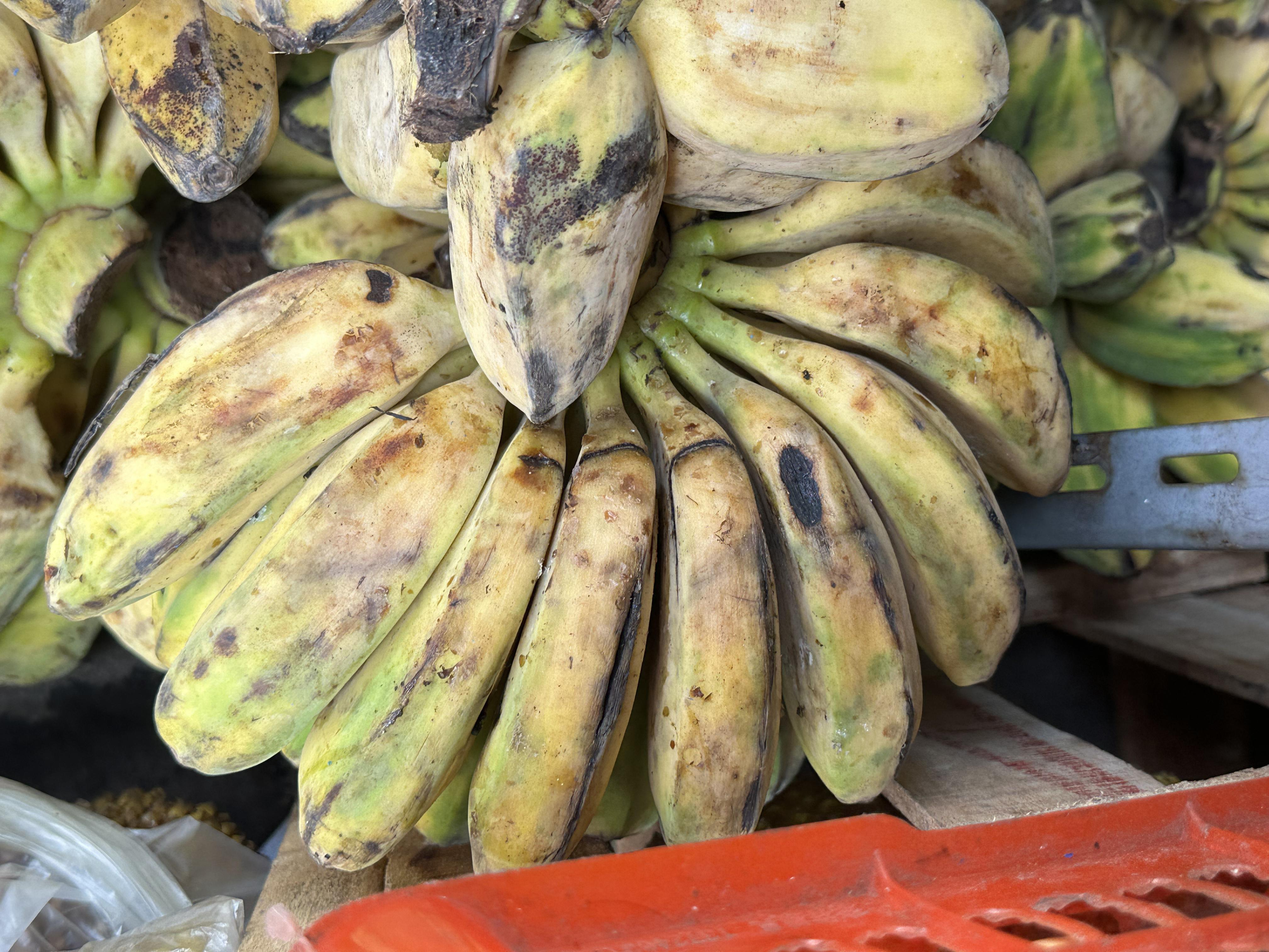ripe: (0, 0, 404, 201)
underripe: (42, 139, 1075, 877), (330, 0, 1008, 422), (988, 0, 1269, 433)
